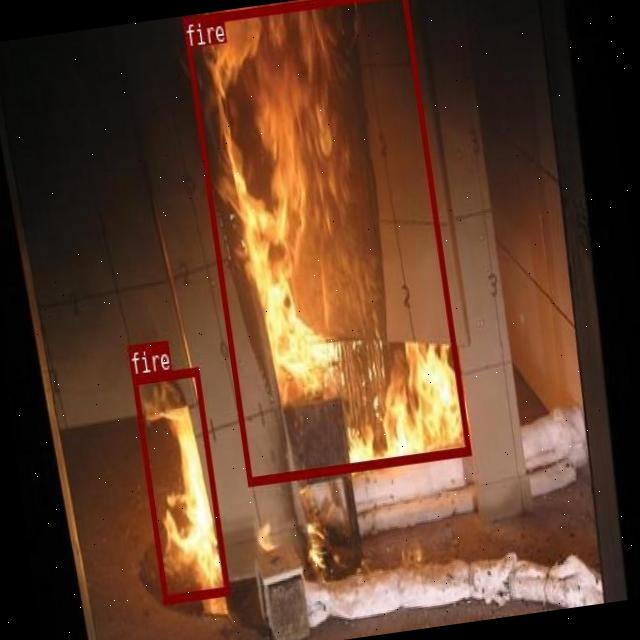fire: (183, 0, 471, 484), (132, 366, 229, 602)
